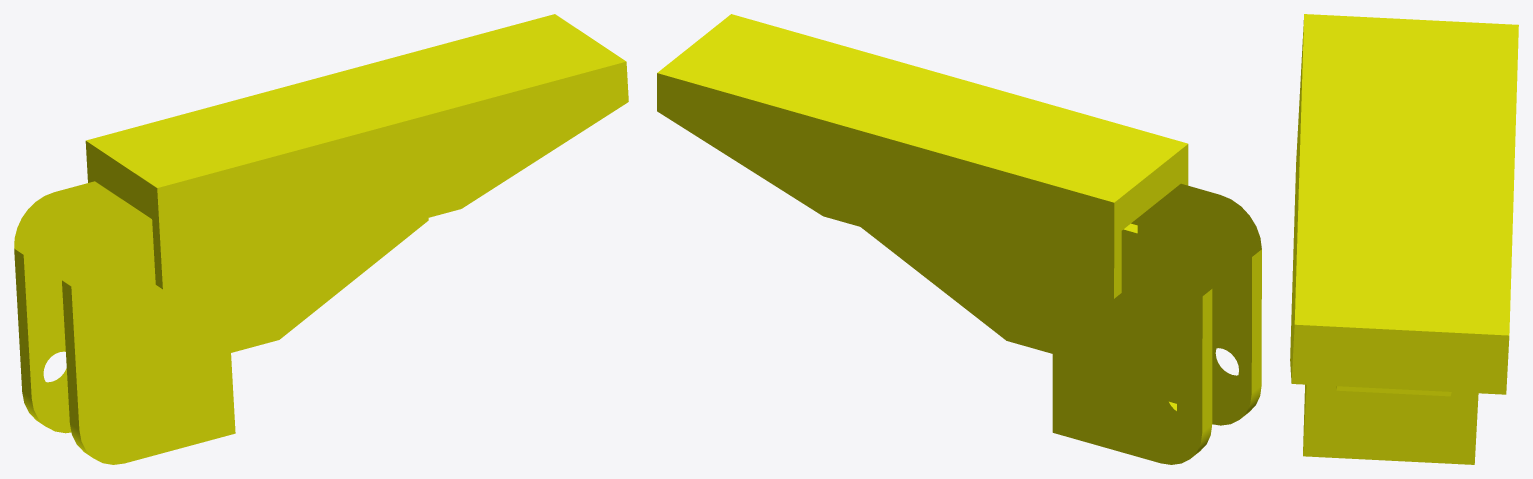
File: body_14.obj
The picture shows the model from 3 angles, left to right: view 1: azimuth 30°, elevation 25°; view 2: azimuth 150°, elevation 25°; view 3: azimuth 270°, elevation 25°; orthographic projection. The views are drawn at different scales.
Visible parts, largest first — view 1: Body_19; view 2: Body_19; view 3: Body_19.
Part boxes in pixels (x1,y1,x2,y2): Body_19: (14, 14, 628, 464); Body_19: (657, 14, 1261, 464); Body_19: (1290, 14, 1518, 464).
Bounding box in the file's own units: 0.0648 × 0.0325 × 0.016.
